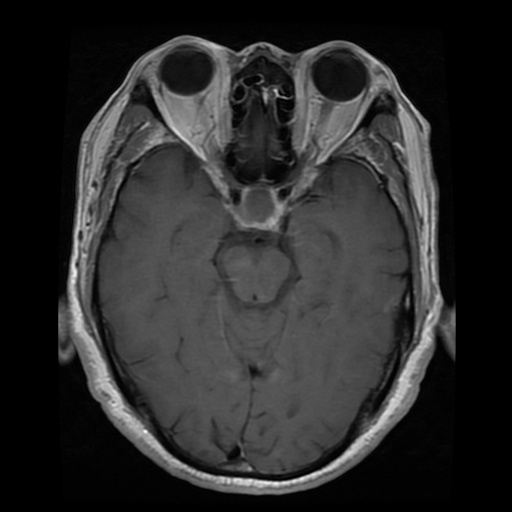pituitary: (234, 186, 284, 229)
